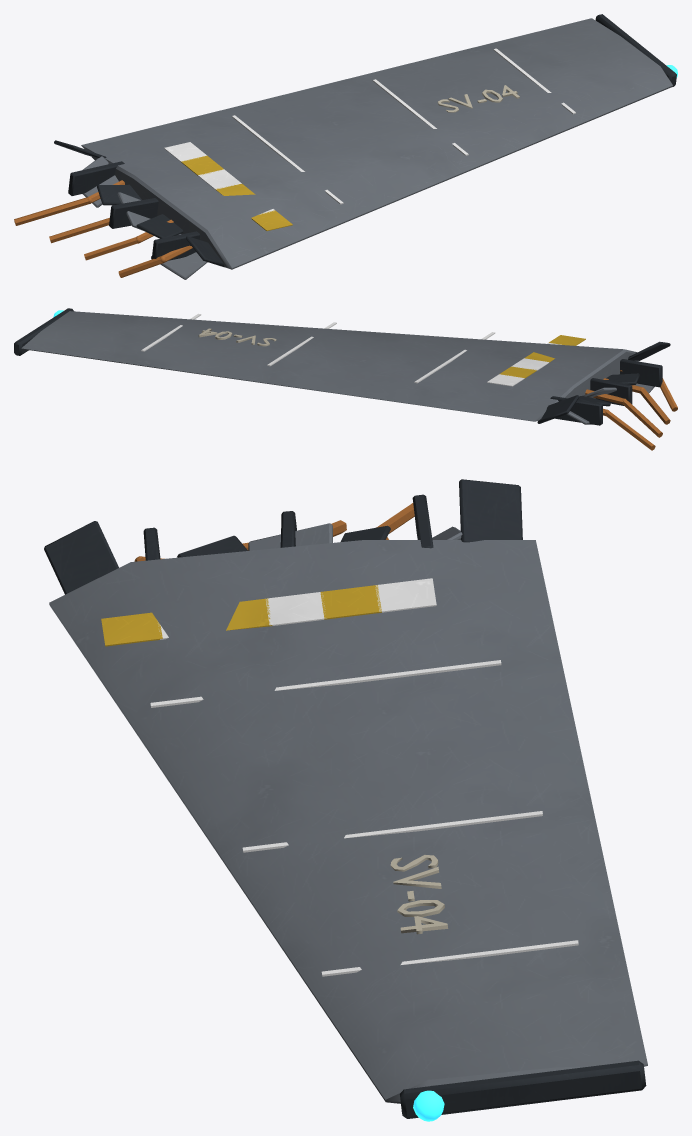
File: wing_fragment.glb
3 views of the same model, one above another, from view 1: azimuth 30°, elevation 25°; view 2: azimuth 150°, elevation 25°; view 3: azimuth 270°, elevation 25° (orthographic). The views are drawn at different scales.
Parts seen in each view (by area): view 1: wing_fragment; view 2: wing_fragment; view 3: wing_fragment.
Part boxes in pixels (box(x1,y1,x2,y2)): wing_fragment: box(14, 14, 677, 279); wing_fragment: box(14, 308, 677, 450); wing_fragment: box(44, 479, 647, 1121).
Size of the model in its own units: 6.06 by 0.6261 by 2.66.
7 materials, 6 textured.
